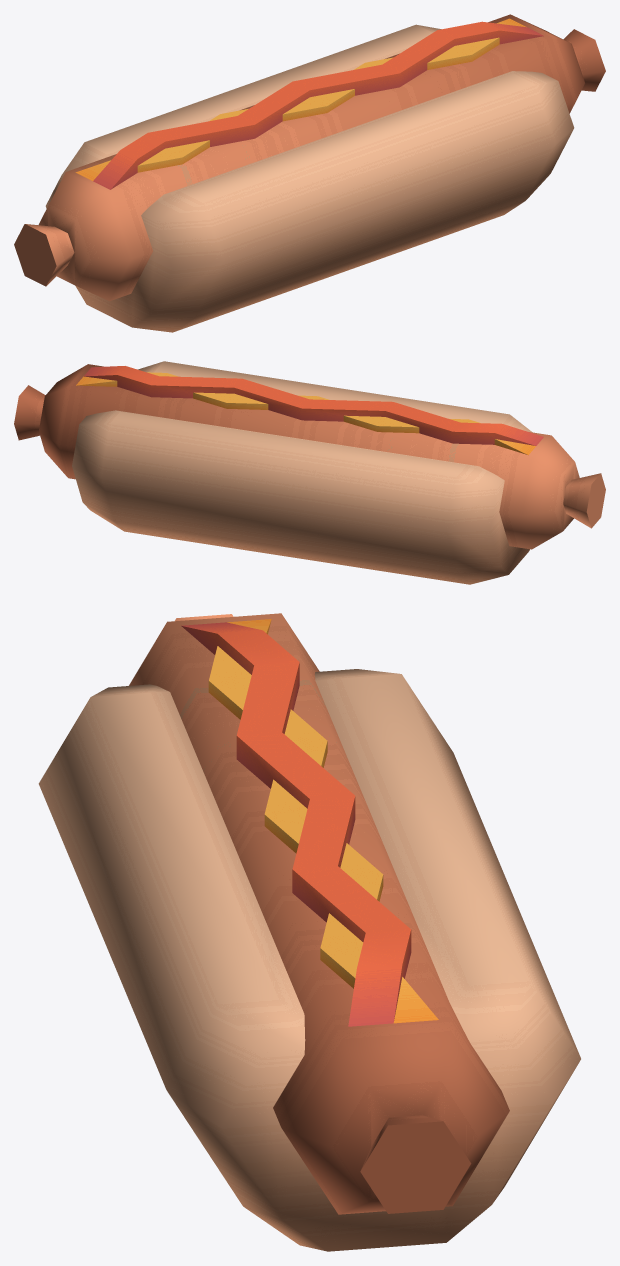
File: hot-dog.glb
3 renders of one model, top to bottom at view 1: azimuth 30°, elevation 25°; view 2: azimuth 150°, elevation 25°; view 3: azimuth 270°, elevation 25°, orthographic. The views are drawn at different scales.
Parts seen in each view (by area): view 1: hot-dog, sausage, sauce; view 2: hot-dog, sausage, sauce; view 3: hot-dog, sausage, sauce.
Part boxes in pixels (x1,y1,x2,y2): hot-dog: (45, 24, 574, 332); sausage: (14, 14, 605, 301); sauce: (75, 18, 543, 189); hot-dog: (72, 361, 532, 584); sausage: (14, 364, 605, 549); sauce: (76, 366, 543, 455); hot-dog: (38, 669, 580, 1251); sausage: (129, 613, 509, 1214); sauce: (181, 619, 438, 1026).
Size of the model in its own units: 0.1818 by 0.0473 by 0.0809.
Materials: 1 (1 with a texture image).
